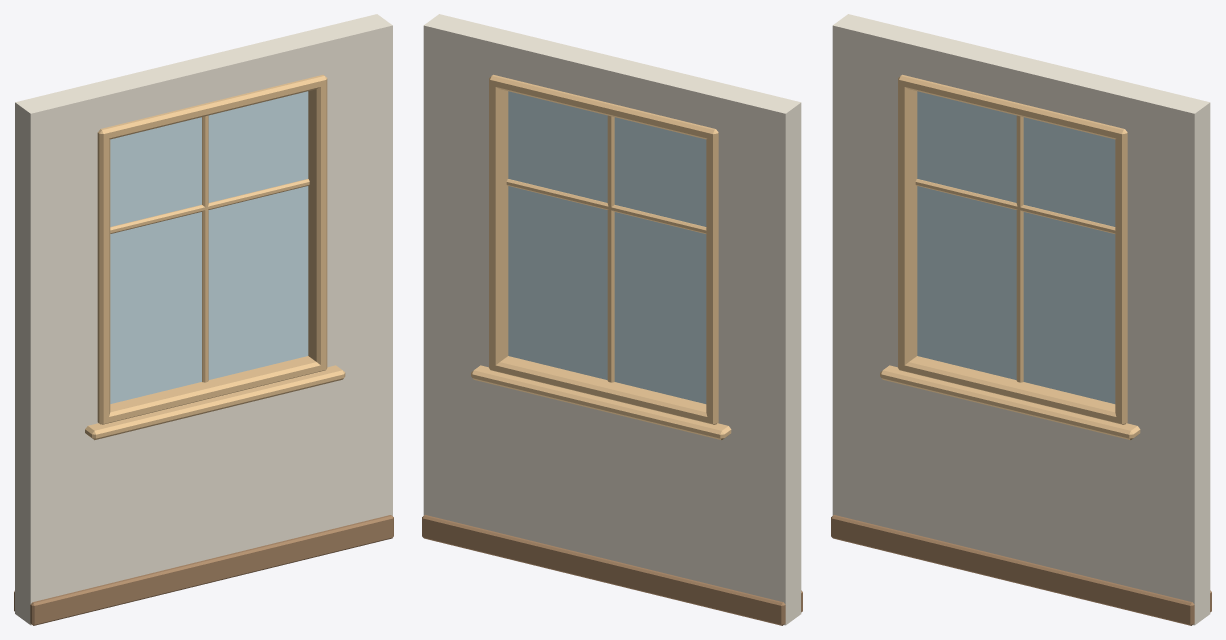
The model's file is cozy-home-interiors-wall-window-2m-c5997f2f.glb.
The picture shows the model from 3 angles, left to right: view 1: azimuth 30°, elevation 25°; view 2: azimuth 150°, elevation 25°; view 3: azimuth 330°, elevation 25°; orthographic projection.
Visible parts, largest first — view 1: wall-window-2m; view 2: wall-window-2m; view 3: wall-window-2m.
Boxes of the visible parts, box(x1,y1,x2,y2) form: wall-window-2m: box(14, 14, 393, 625); wall-window-2m: box(422, 14, 802, 625); wall-window-2m: box(831, 14, 1211, 625).
Bounding box in the file's own units: 2 × 2.7 × 0.31.
